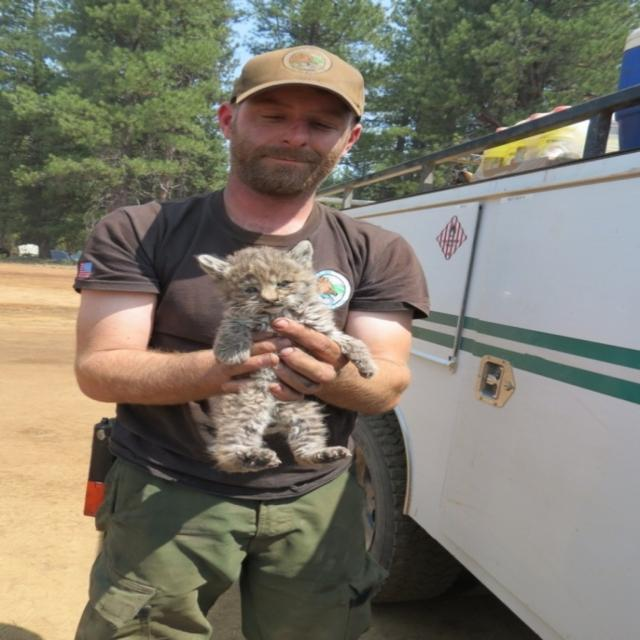Cat: (196, 238, 372, 471)
